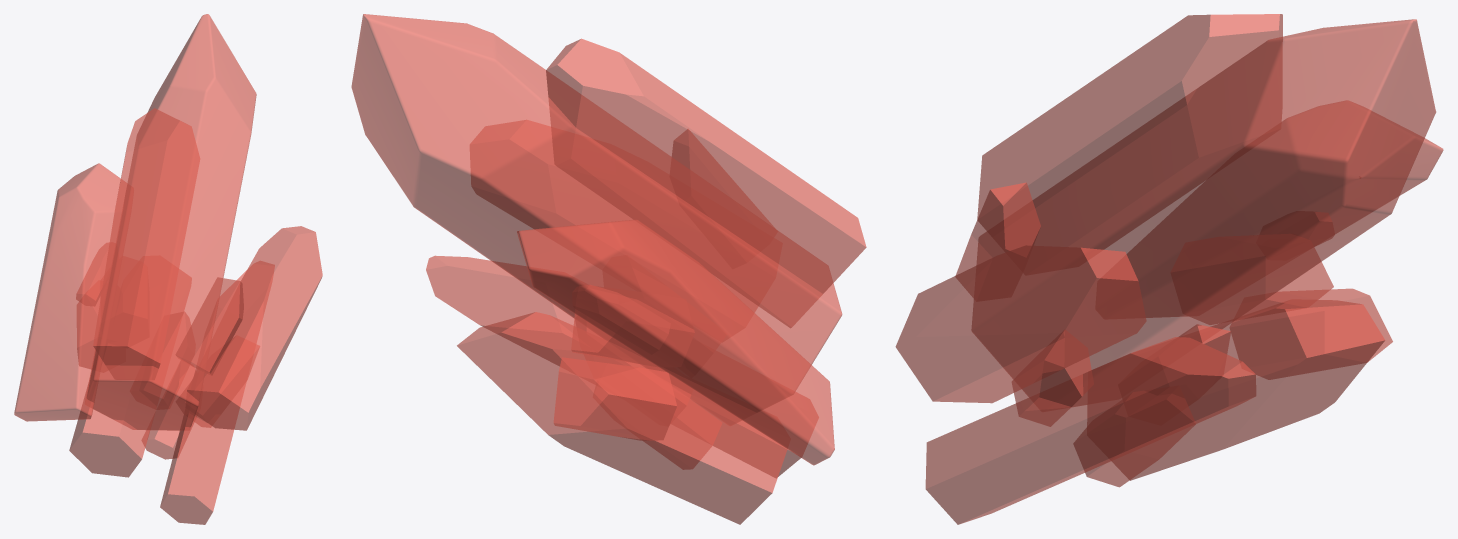
The model's file is crystal_left_top.gltf.
The picture shows the model from 3 angles, left to right: view 1: azimuth 30°, elevation 25°; view 2: azimuth 150°, elevation 25°; view 3: azimuth 270°, elevation 25°; orthographic projection. The views are drawn at different scales.
Visible parts, largest first — view 1: Cylinder.001, Cylinder.002, Cylinder.004, Cylinder.011, Cylinder.010, Cylinder.009, Cylinder.025, Cylinder.024, Cylinder.023, Cylinder.022, Cylinder.013, Cylinder.021; view 2: Cylinder.001, Cylinder.002, Cylinder.009, Cylinder.004, Cylinder.010, Cylinder.011, Cylinder.013, Cylinder.003, Cylinder.021, Cylinder.022, Cylinder.025, Cylinder.023; view 3: Cylinder.001, Cylinder.002, Cylinder.010, Cylinder.011, Cylinder.004, Cylinder.009, Cylinder.003, Cylinder.013, Cylinder.022, Cylinder.025, Cylinder.023, Cylinder.024 (+1 smaller).
Part boxes in pixels (x1,y1,x2,y2): Cylinder.001: (85,14,256,430); Cylinder.002: (93,108,200,379); Cylinder.004: (14,163,126,421); Cylinder.011: (186,226,322,430); Cylinder.010: (160,261,274,524); Cylinder.009: (69,269,191,477); Cylinder.025: (175,277,243,375); Cylinder.024: (176,336,259,427); Cylinder.023: (139,312,190,407); Cylinder.022: (142,366,194,459); Cylinder.013: (77,298,99,368); Cylinder.021: (76,243,109,305); Cylinder.001: (351,14,842,425); Cylinder.002: (546,38,866,327); Cylinder.009: (457,312,790,524); Cylinder.004: (517,219,834,465); Cylinder.010: (426,255,818,477); Cylinder.011: (470,120,757,312); Cylinder.013: (553,357,676,440); Cylinder.003: (571,298,694,367); Cylinder.021: (572,285,670,354); Cylinder.022: (644,400,721,469); Cylinder.025: (672,129,772,226); Cylinder.023: (575,320,690,423); Cylinder.001: (972,19,1435,406); Cylinder.002: (977,14,1282,249); Cylinder.010: (925,337,1256,524); Cylinder.011: (895,245,1146,403); Cylinder.004: (1127,101,1443,317); Cylinder.009: (1087,300,1384,480); Cylinder.003: (1171,234,1333,324); Cylinder.013: (1230,288,1392,379); Cylinder.022: (1074,391,1195,487); Cylinder.025: (955,182,1040,301); Cylinder.023: (1118,324,1230,405); Cylinder.024: (1012,330,1093,426).
Bounding box in the file's own units: 3.76 × 4.7 × 3.77.
